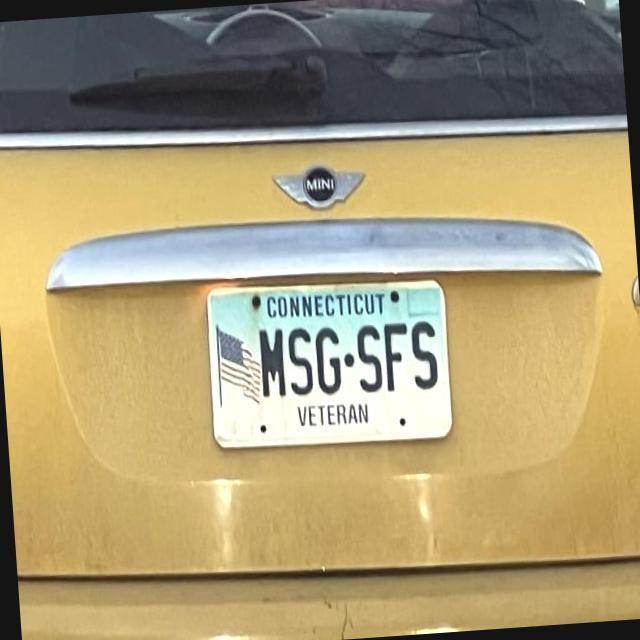license-plate: (213, 278, 440, 454)
